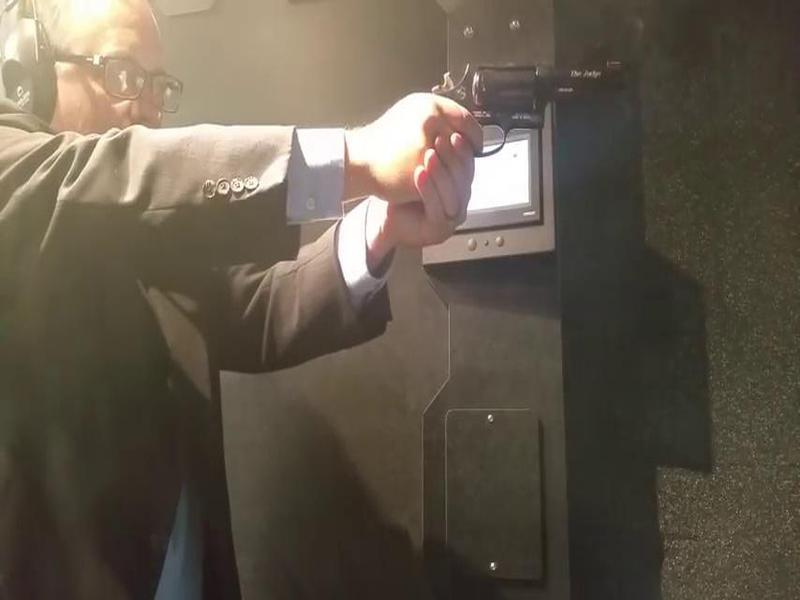Revolver: (384, 53, 646, 179)
